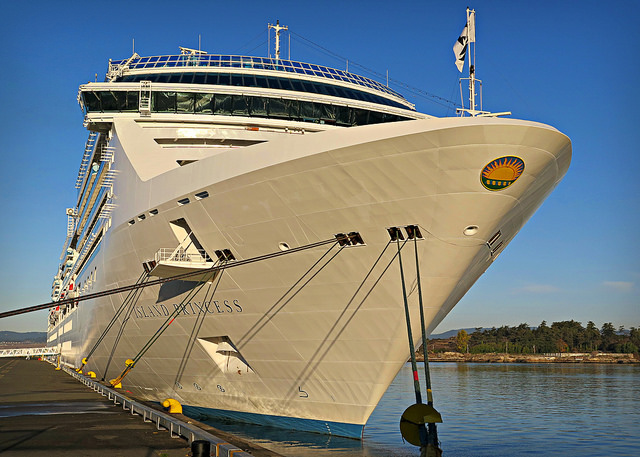cruise_ship: (40, 21, 579, 401)
